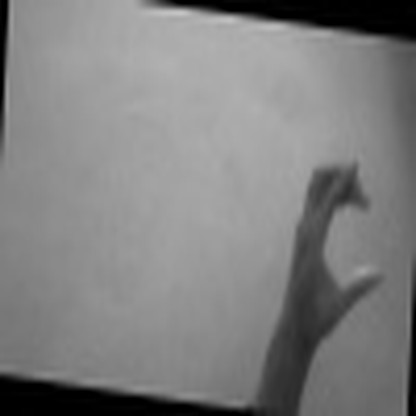c: (287, 154, 388, 339)
